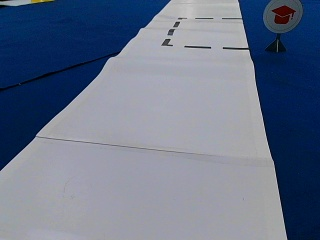school: (263, 0, 302, 32)
